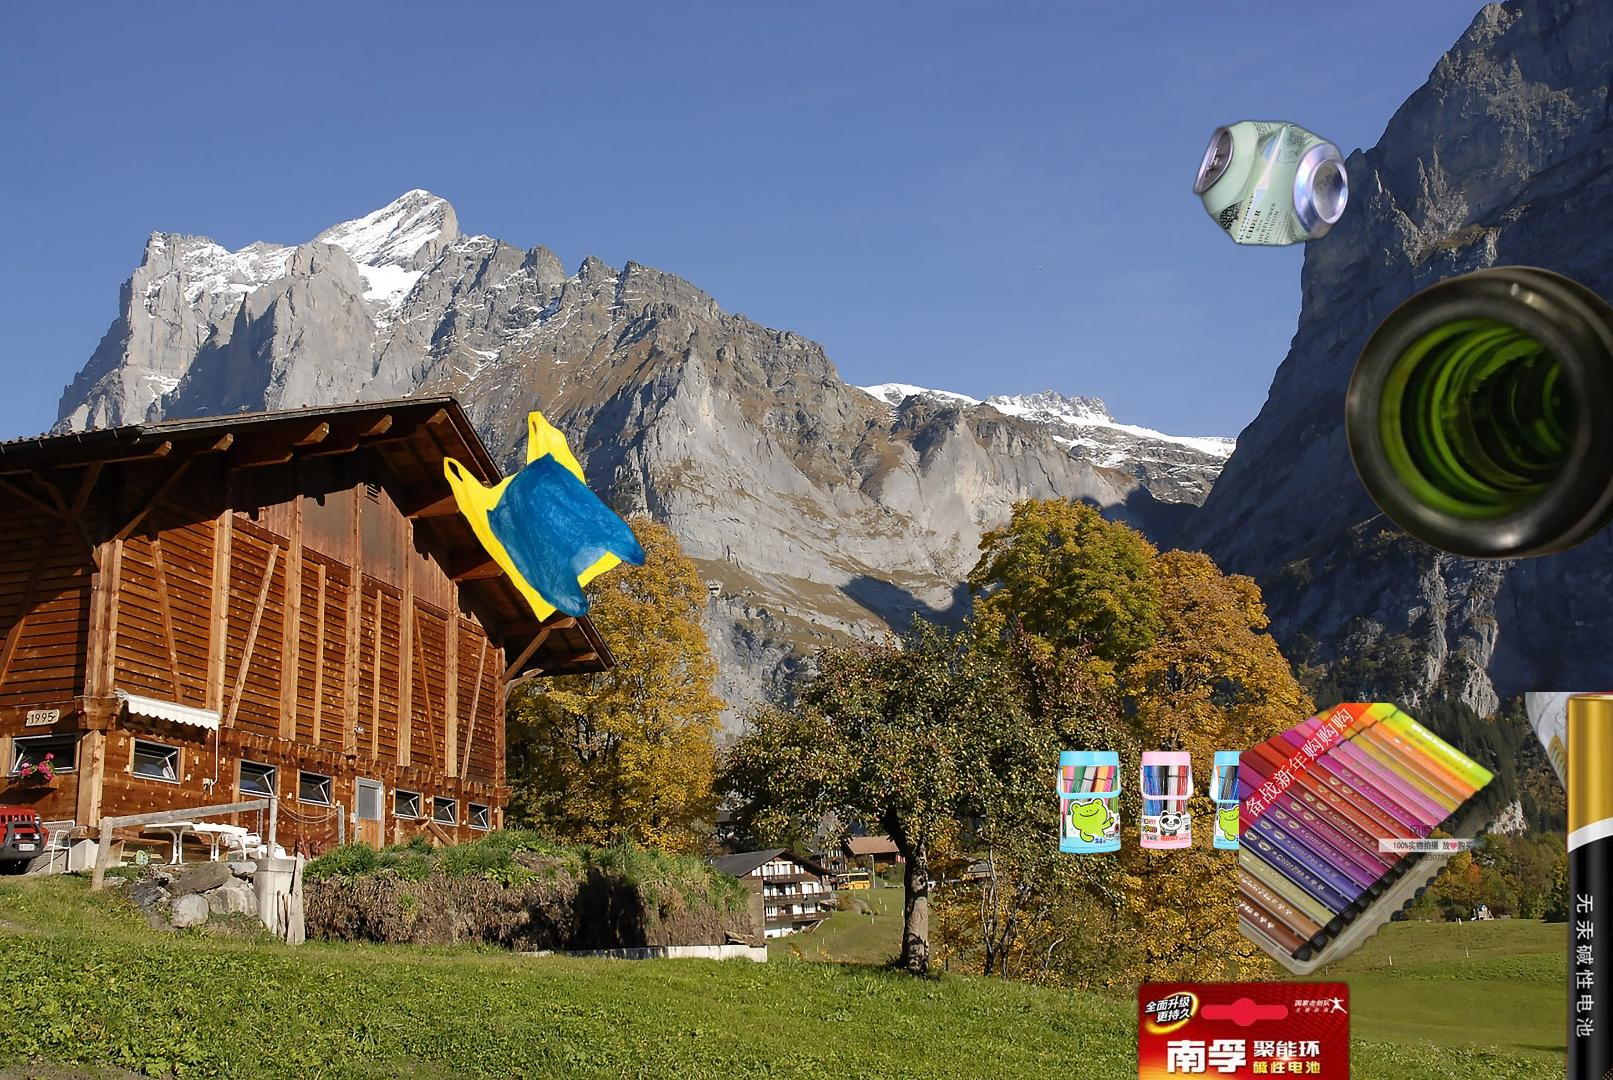battery: (1002, 513, 1613, 1080)
glass: (1341, 262, 1613, 567), (1520, 692, 1613, 1076)
metal-cans: (1190, 115, 1354, 252)
penholder: (1239, 703, 1549, 993), (1052, 747, 1324, 855)
plastic-bag: (442, 407, 649, 626)
trash: (1606, 838, 1613, 978)
